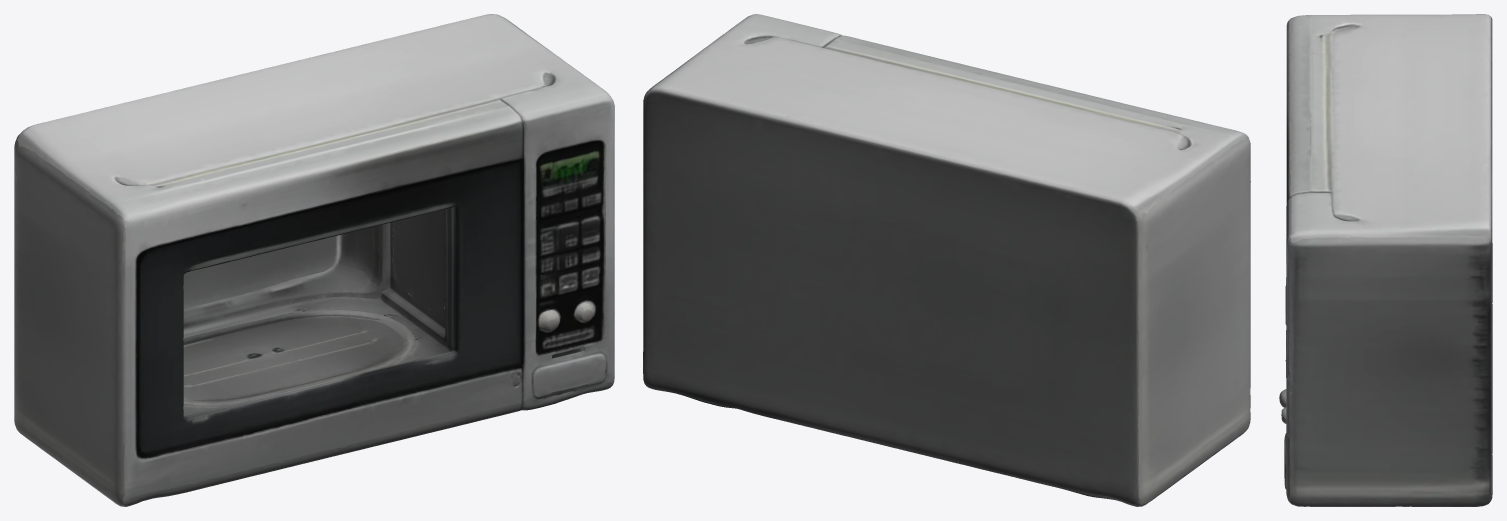
The model's file is whole.glb.
The picture shows the model from 3 angles, left to right: view 1: azimuth 30°, elevation 25°; view 2: azimuth 150°, elevation 25°; view 3: azimuth 270°, elevation 25°; orthographic projection. The views are drawn at different scales.
Visible parts, largest first — view 1: world; view 2: world; view 3: world.
Part boxes in pixels (bbox=[...]): world: bbox=[14, 14, 614, 506]; world: bbox=[643, 14, 1250, 506]; world: bbox=[1279, 14, 1492, 506].
Bounding box in the file's own units: 0.5 × 0.2939 × 0.2011.
Materials: 1 (1 with a texture image).
